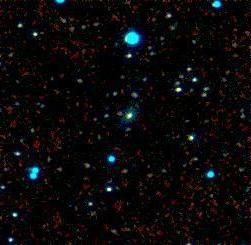star: (105, 97, 135, 127)
